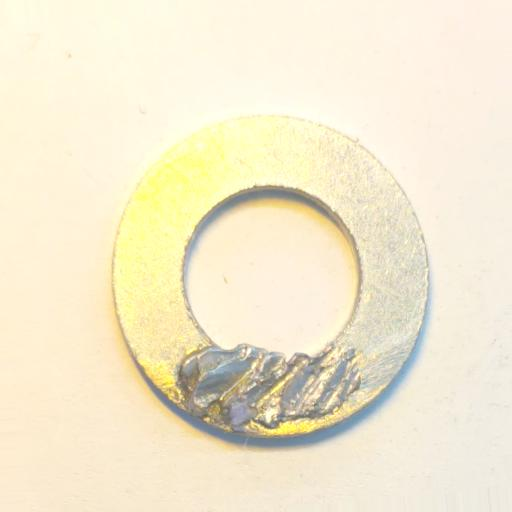excess_material: (177, 341, 365, 432)
